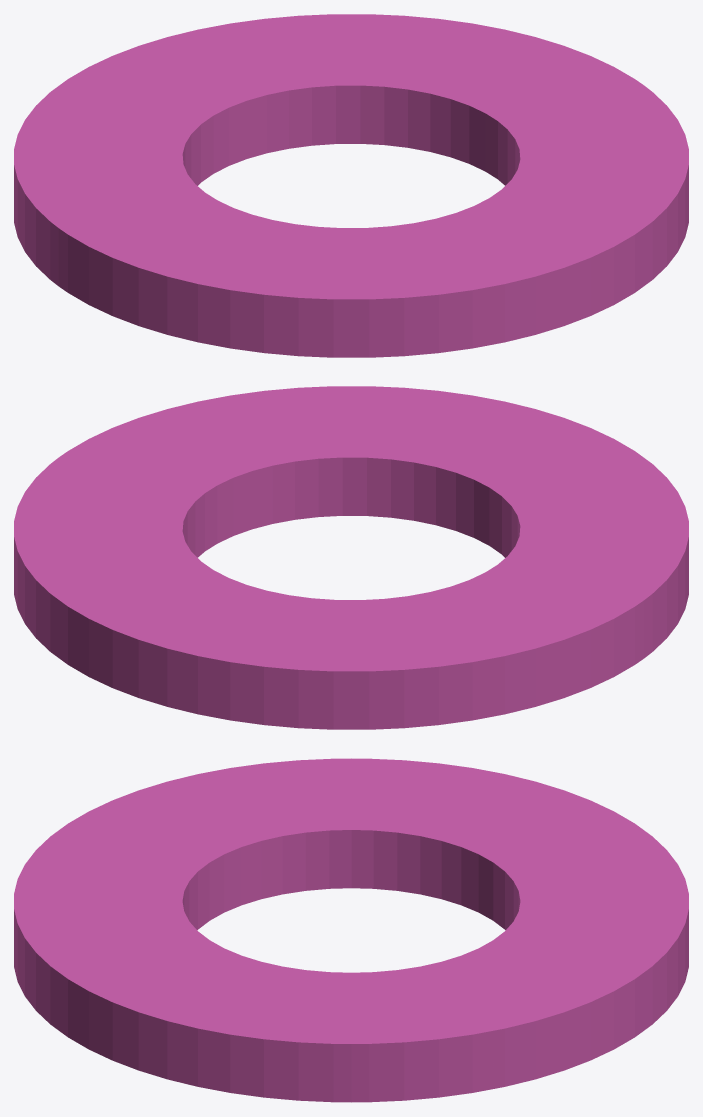
The model's file is 10mm_Washer_.dae.
3 renders of one model, top to bottom at view 1: azimuth 30°, elevation 25°; view 2: azimuth 150°, elevation 25°; view 3: azimuth 270°, elevation 25°, orthographic.
Visible parts, largest first — view 1: _0mm_Washer; view 2: _0mm_Washer; view 3: _0mm_Washer.
Part boxes in pixels (box(x1,y1,x2,y2)): _0mm_Washer: box(14, 14, 688, 357); _0mm_Washer: box(14, 386, 688, 729); _0mm_Washer: box(14, 758, 688, 1102).
Bounding box in the file's own units: 0.021 × 0.021 × 0.002.
